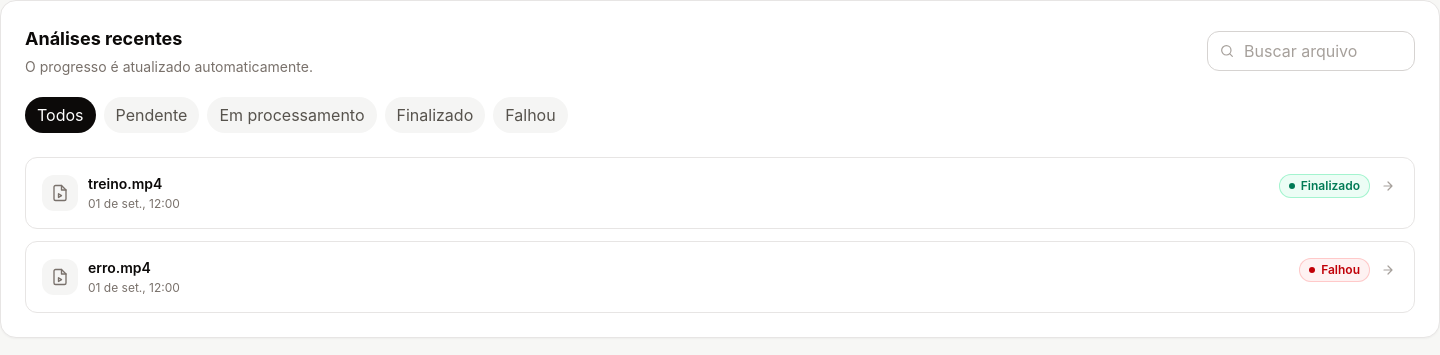
Test: VideoProcessingList › filtra por nome e por situacao
Type "erro" into the search field named "Buscar por arquivo" at x=1311, y=51, box 1207,31 -> 1415,71
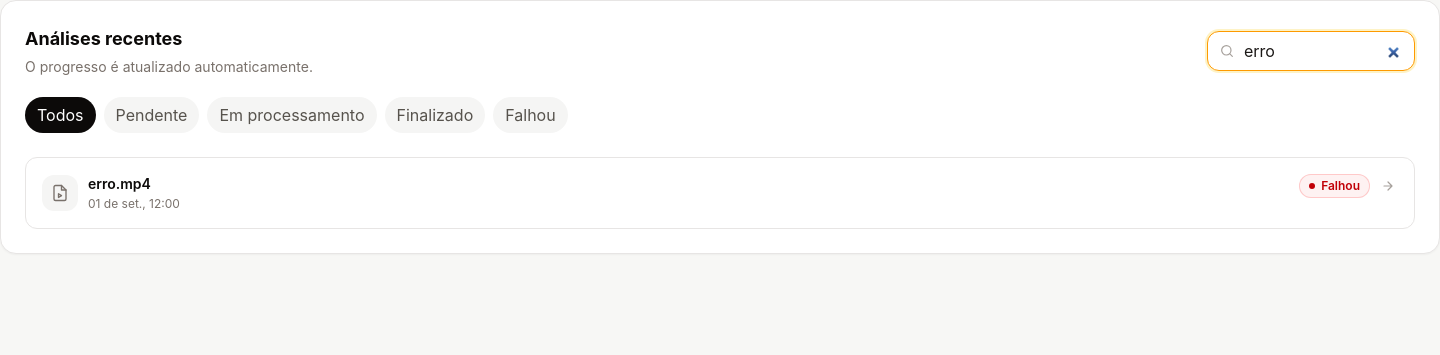
Expected: the heading "erro.mp4" is shown, 88,175 -> 151,192
Result: the link "treino.mp4" is gone
Clear the search field named "Buscar por arquivo" at x=1311, y=51, box 1207,31 -> 1415,71
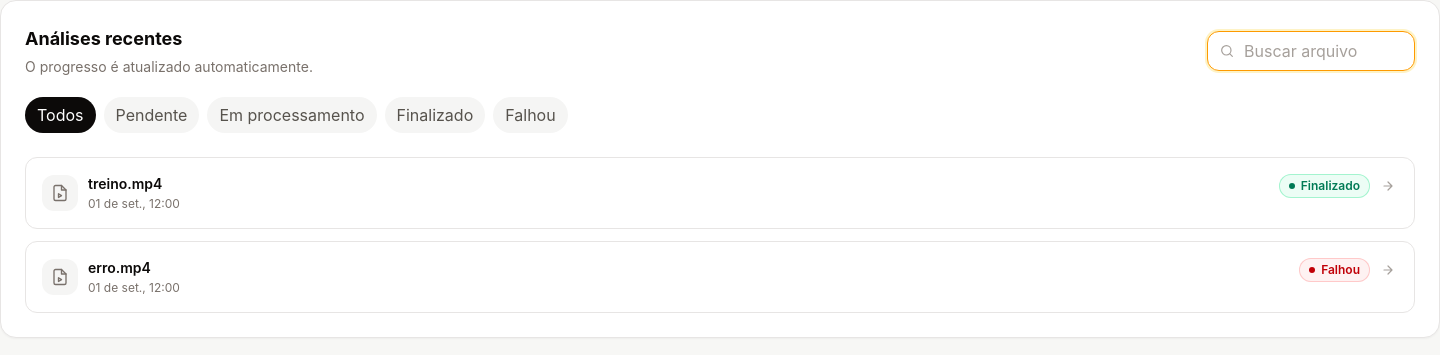
Click the button "Finalizado" at x=435, y=115, box 384,97 -> 485,133
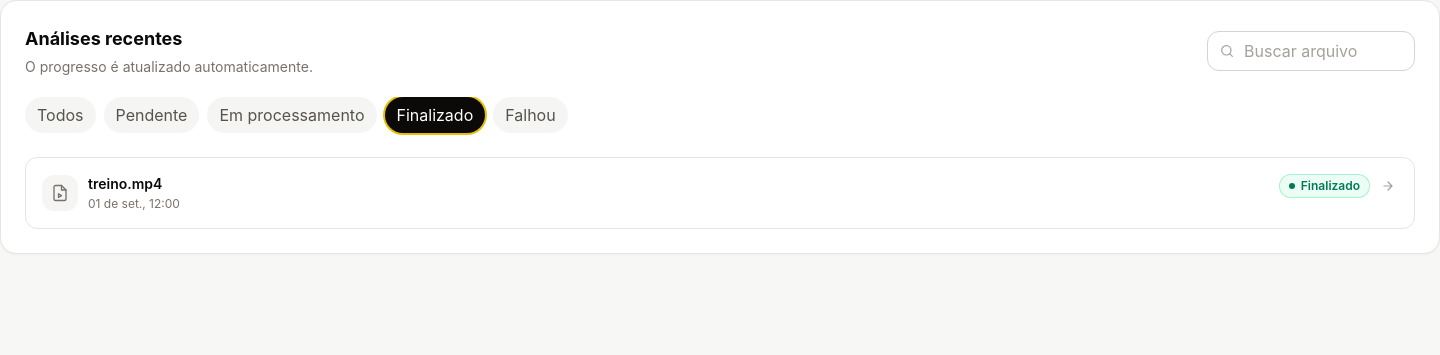
Result: the heading "treino.mp4" is shown at 88,175 -> 162,192
Result: the link "erro.mp4" is gone
